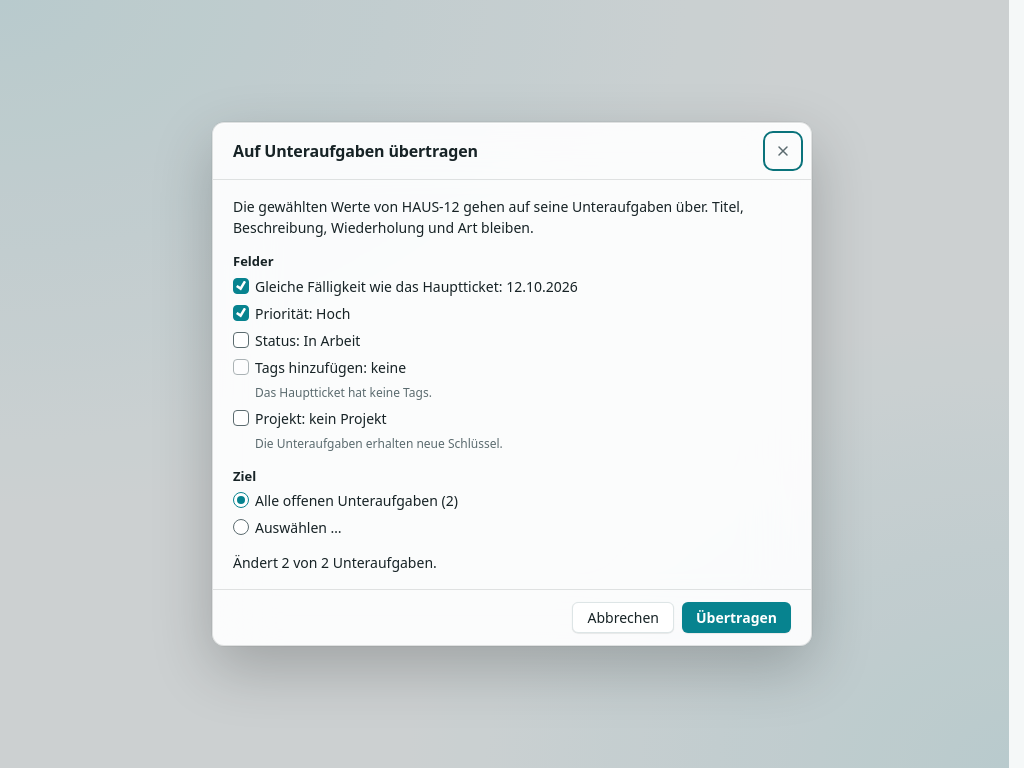
Test: the dialog › counts what changes and locks "Übertragen" without a field or a target
Click the checkbox labelled "Gleiche Fälligkeit wie das Hauptticket: 12.10.2026" at (241, 286), box x1=233 y1=278 x2=249 y2=294
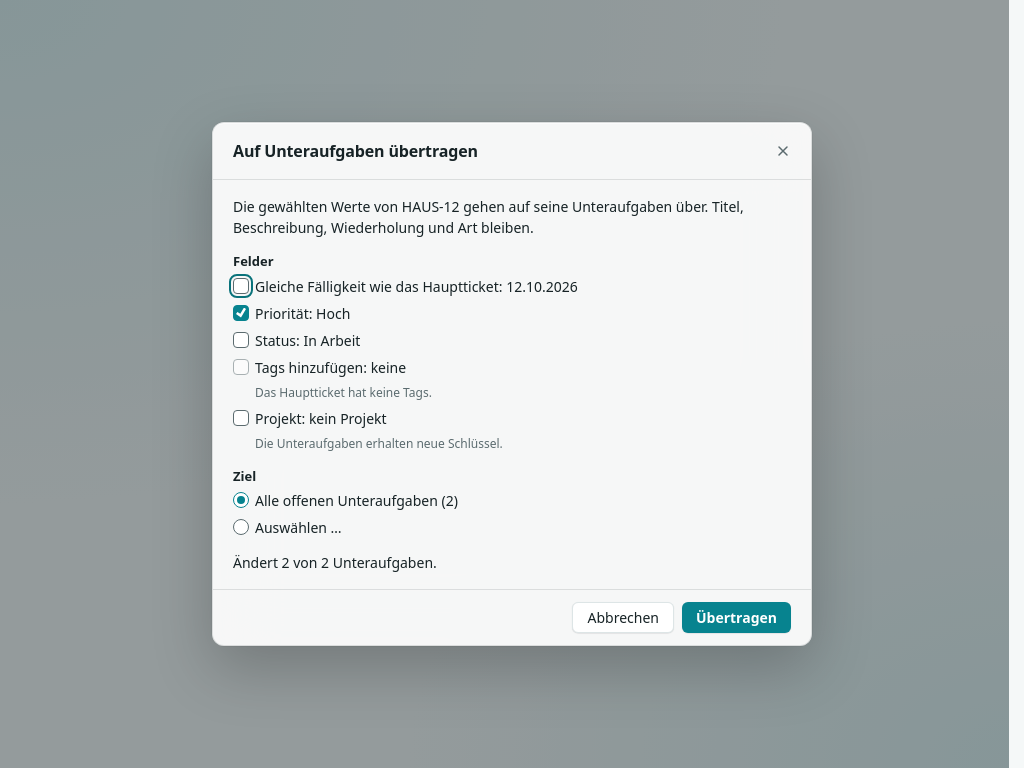
Click the checkbox labelled "Priorität: Hoch" at (241, 312), box x1=233 y1=304 x2=249 y2=320
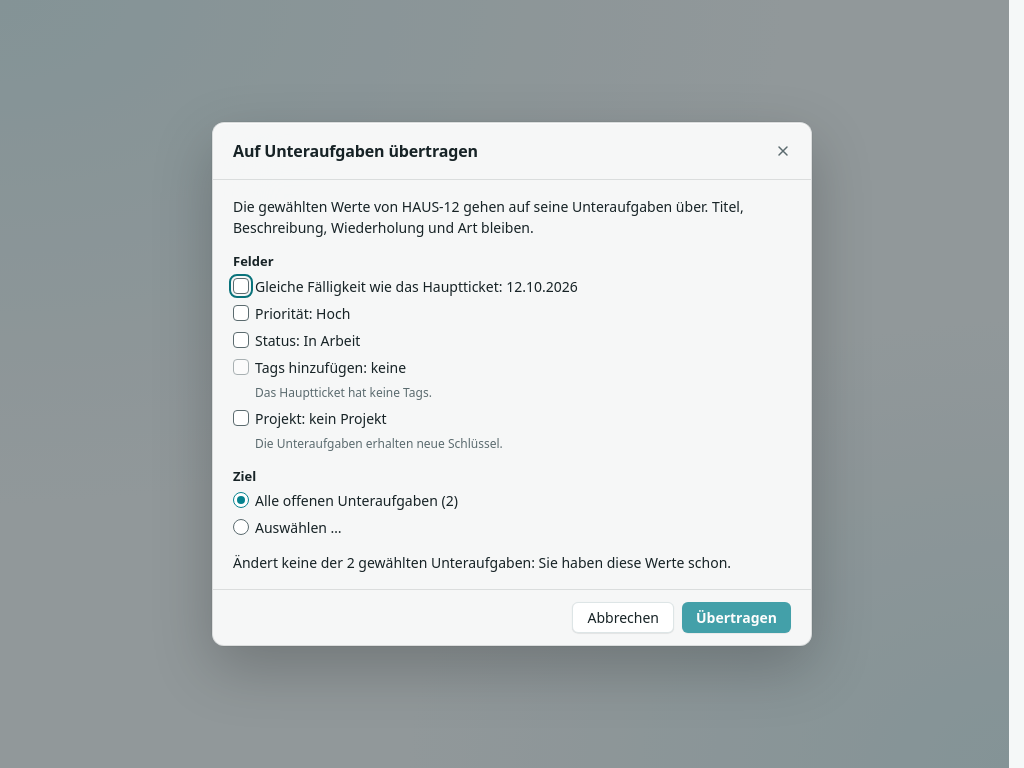
Now the button "Übertragen" is disabled, box x1=682 y1=602 x2=791 y2=633
Click the checkbox labelled "Status: In Arbeit" at (241, 340), box x1=233 y1=332 x2=249 y2=348
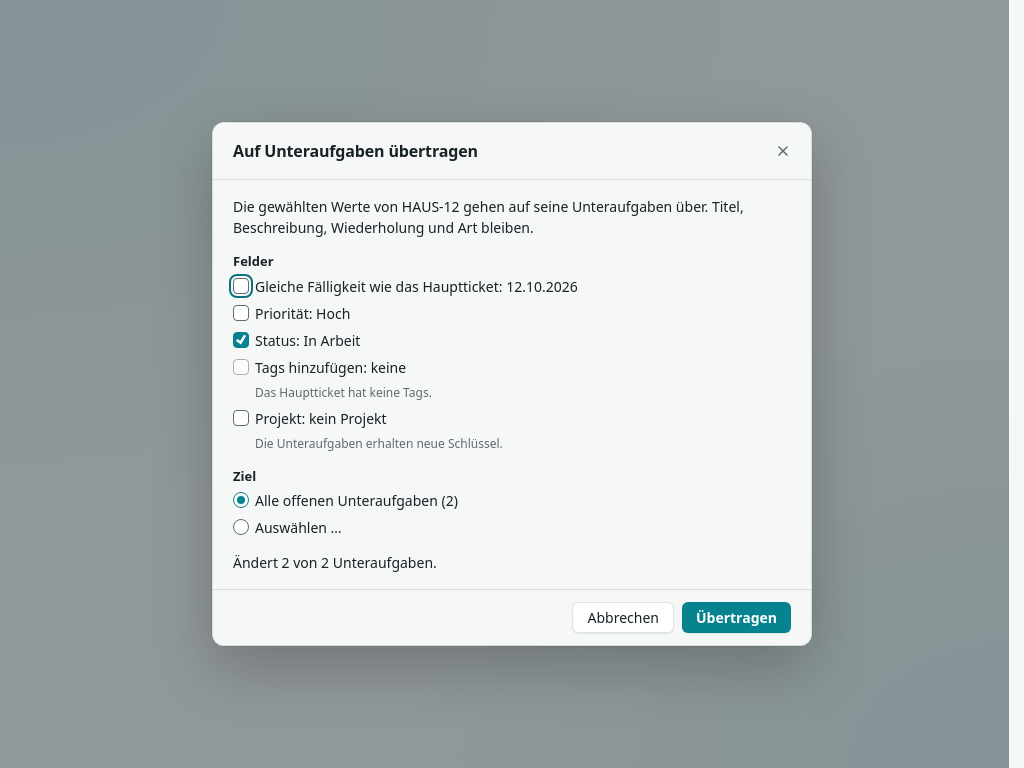
Now the button "Übertragen" does not have attribute aria-disabled, box x1=682 y1=602 x2=791 y2=633
Click the radio button labelled "Auswählen …" at (241, 527), box x1=233 y1=519 x2=249 y2=535
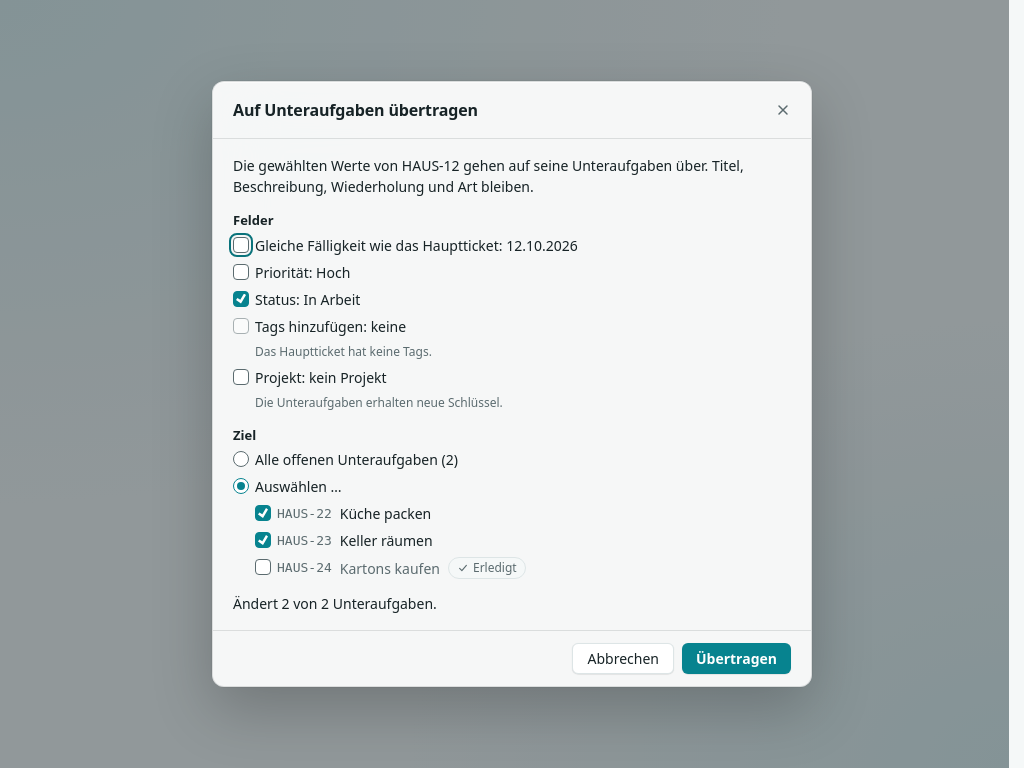
Click the checkbox labelled "HAUS-22 Küche packen" at (263, 513), box x1=255 y1=505 x2=271 y2=521
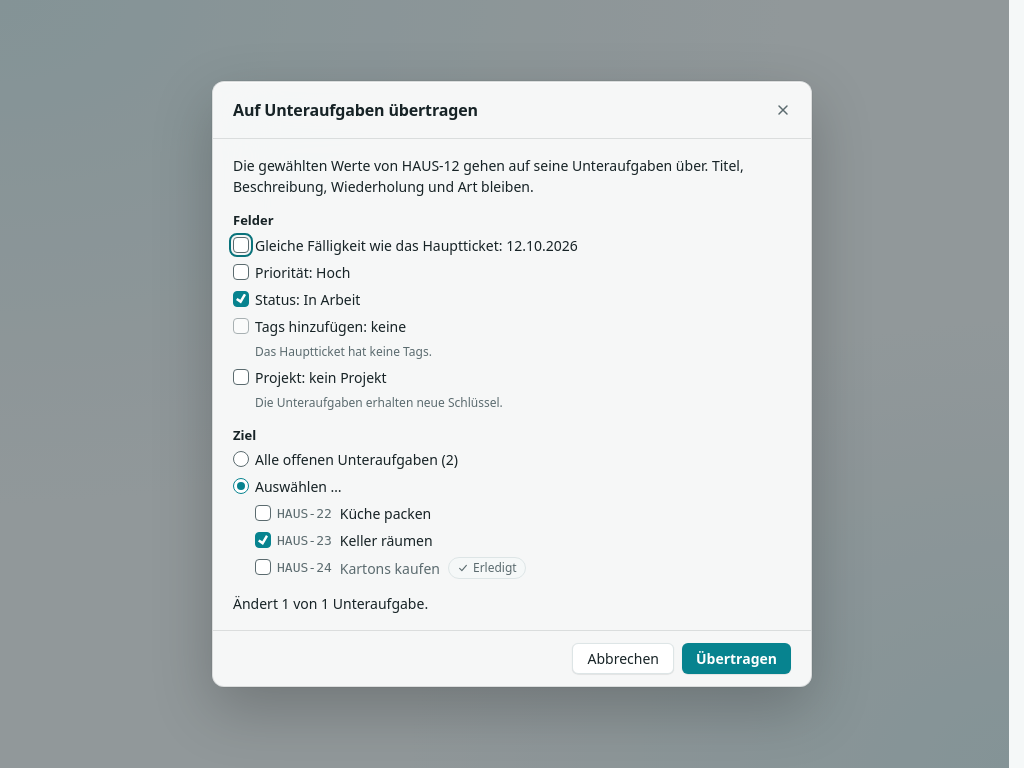
Click the checkbox labelled "HAUS-23 Keller räumen" at (263, 540), box x1=255 y1=532 x2=271 y2=548
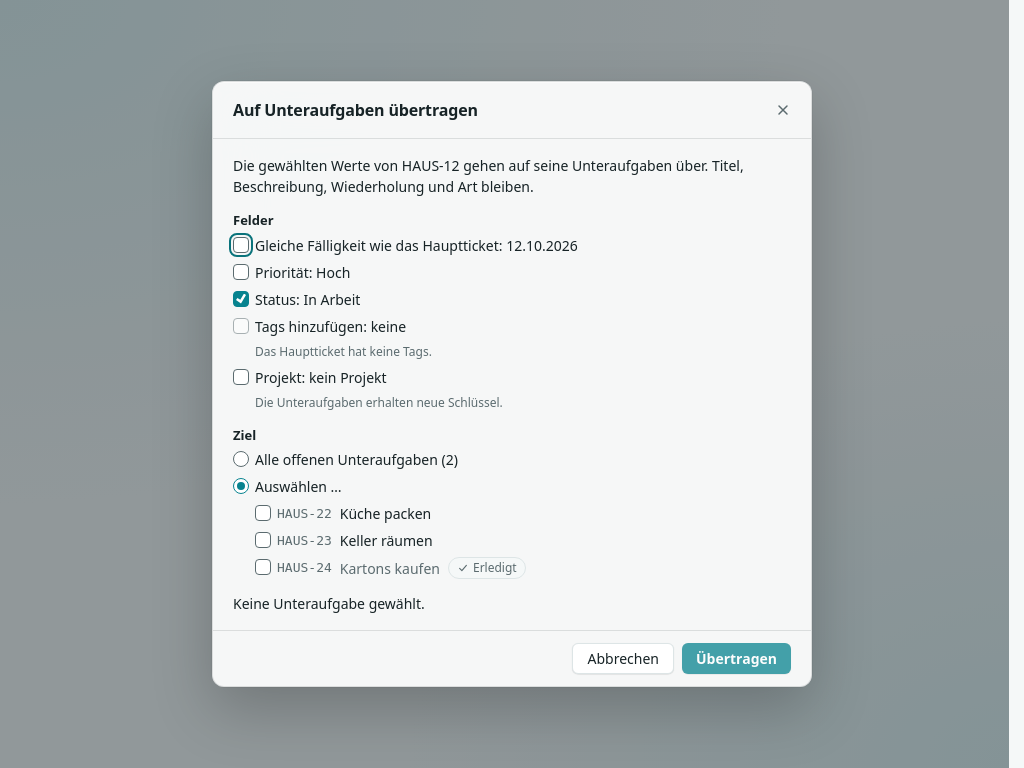
Now the text with class "summary" reads "Keine Unteraufgabe gewählt.", box x1=233 y1=594 x2=425 y2=613
